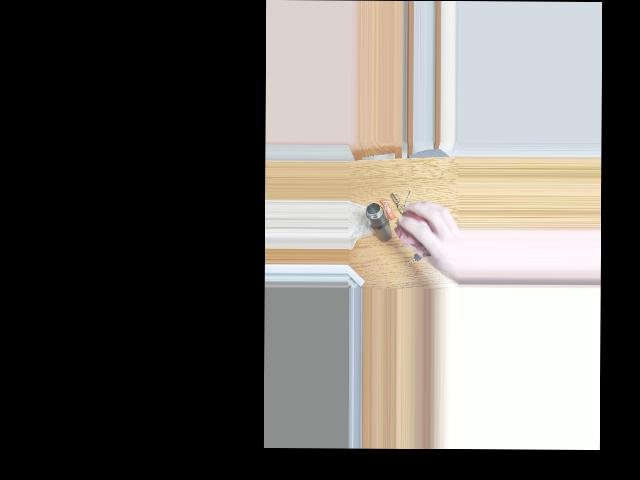onion: (400, 207, 432, 250)
